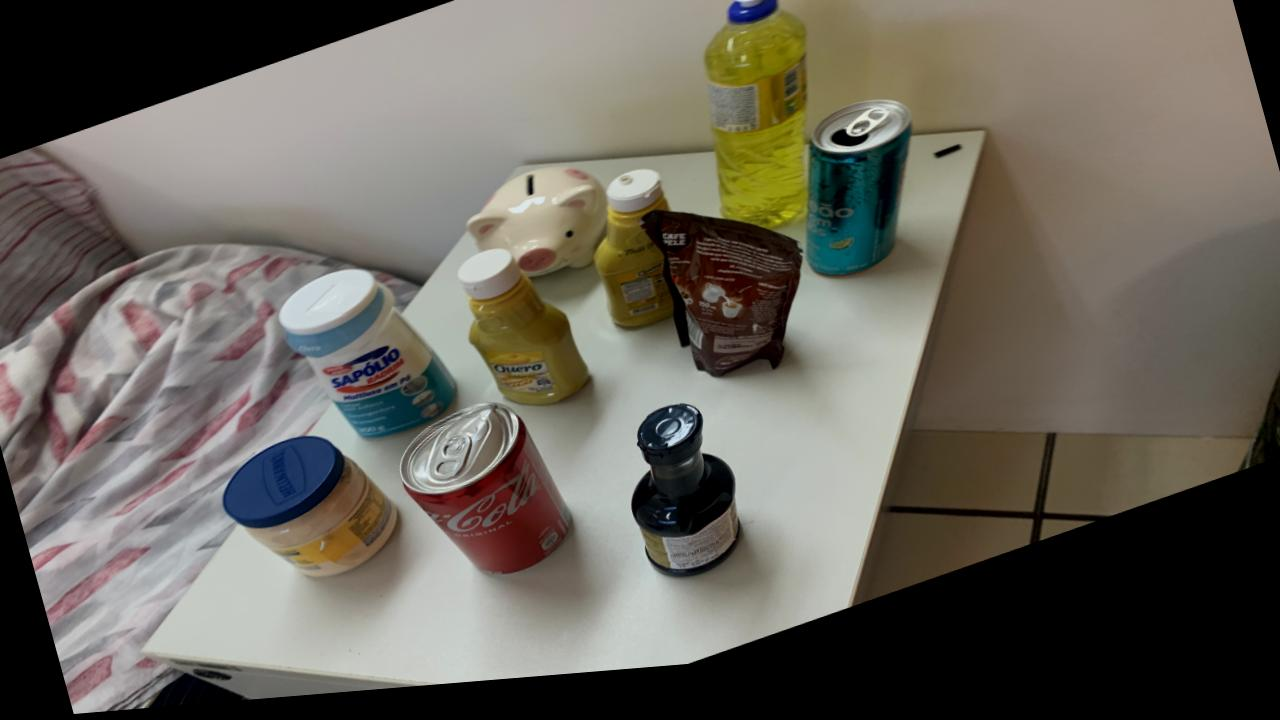Cleaner-Cleanup_Items: (279, 275, 456, 445)
Coffee-Pantry_Items: (640, 221, 803, 389)
Coke-Drinks: (399, 411, 571, 583)
Detergent-Cleanup_Items: (704, 0, 808, 241)
English_Sauce-Pantry_Items: (631, 415, 741, 588)
Mayonnaise-Pantry_Items: (223, 441, 398, 582)
Mustard-Pantry_Items: (456, 257, 590, 414), (594, 179, 673, 338)
Pig_Safe-Miscellaneous: (466, 174, 607, 286)
Tea-Drinks: (806, 115, 912, 289)
